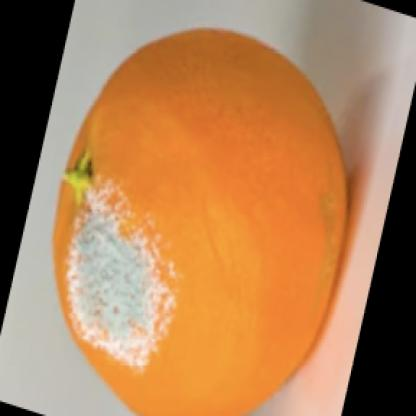rotten: (55, 30, 349, 416)
